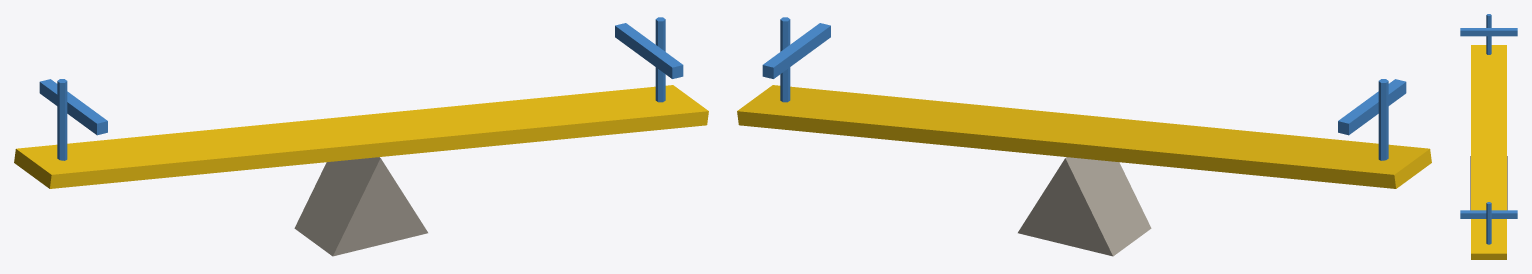
Rendered from play_seesaw.glb.
The picture shows the model from 3 angles, left to right: view 1: azimuth 30°, elevation 25°; view 2: azimuth 150°, elevation 25°; view 3: azimuth 270°, elevation 25°; orthographic projection. The views are drawn at different scales.
Parts seen in each view (by area): view 1: Cube, Cylinder, Cube.001; view 2: Cube, Cylinder, Cube.001; view 3: Cube, Cube.001, Cylinder.
Part boxes in pixels (x1,y1,x2,y2): Cube: (14, 85, 708, 188); Cylinder: (294, 157, 427, 256); Cube.001: (39, 17, 683, 160); Cube: (737, 85, 1431, 188); Cylinder: (1018, 157, 1151, 256); Cube.001: (762, 17, 1406, 160); Cube: (1471, 45, 1506, 259); Cube.001: (1460, 14, 1517, 244); Cylinder: (1470, 156, 1507, 210).
Bounding box in the file's own units: 2.98 × 0.9621 × 0.45.
